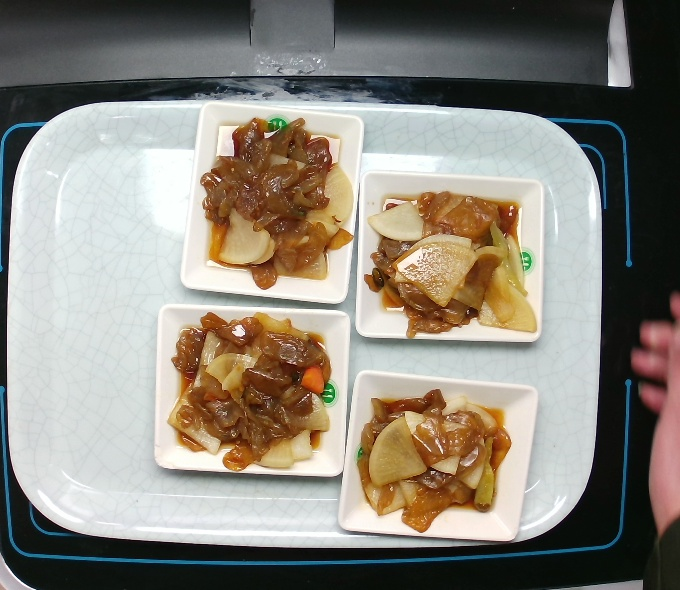wcq-HaiZheTou: (163, 302, 336, 476), (200, 109, 358, 293), (364, 184, 539, 344), (351, 387, 517, 536)
